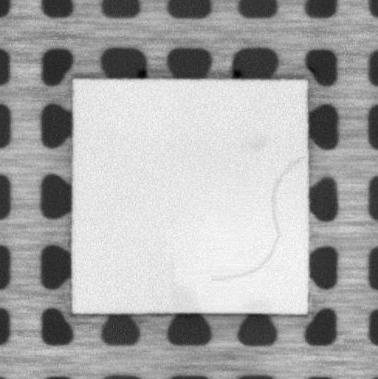DIE_CRACK: (210, 158, 305, 283)
